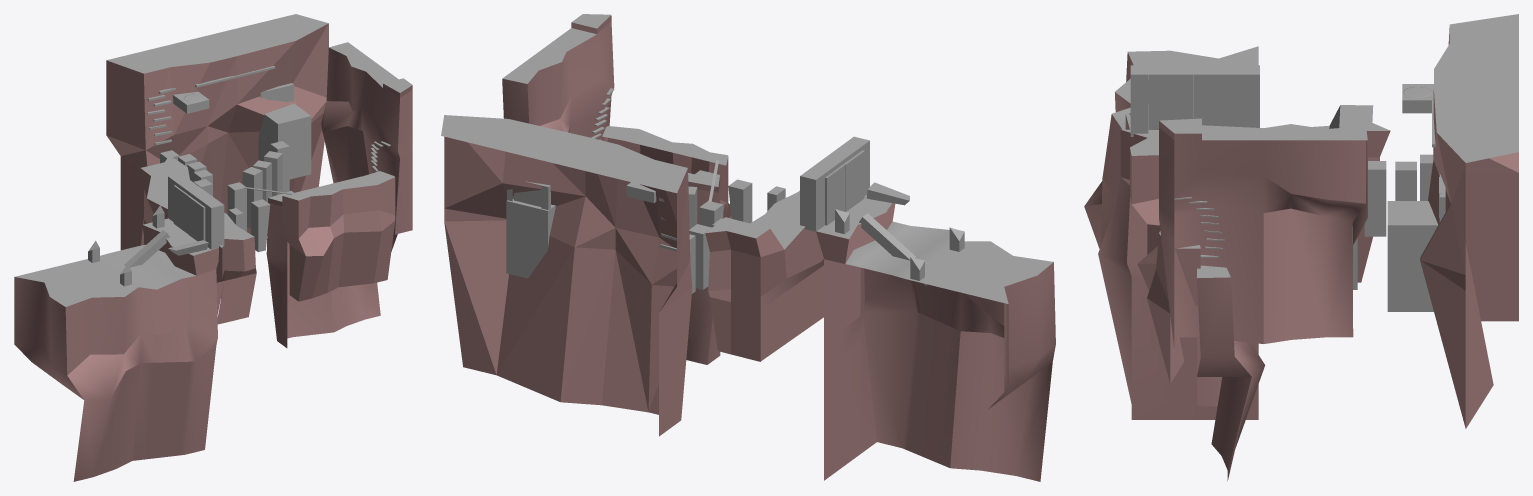
File: zonas 5-6.fbx
3 renders of one model, left to right at view 1: azimuth 30°, elevation 25°; view 2: azimuth 150°, elevation 25°; view 3: azimuth 270°, elevation 25°, orthographic. The views are drawn at different scales.
Parts seen in each view (by area): view 1: base6, base8, base7, base11, base10, base9, polySurface5, cubo_1, polySurface3, escalada_final, polySurface1, polySurface2 (+3 smaller); view 2: base8, base6, base9, base11, polySurface5, base7, cubo_1, base10, polySurface3, polySurface1, polySurface2, columna4 (+1 smaller); view 3: base11, base8, base6, base10, base9, cubo_1, polySurface3, base7, polySurface5, polySurface2, polySurface1, cubo_2.
Boxes of the visible parts, box(x1,y1,x2,y2) form: base6: box(14, 218, 218, 481); base8: box(106, 14, 328, 250); base7: box(282, 171, 395, 301); base11: box(321, 42, 412, 234); base10: box(266, 190, 397, 347); base9: box(140, 155, 256, 324); polySurface5: box(160, 141, 289, 252); cubo_1: box(258, 103, 311, 179); polySurface3: box(168, 173, 224, 249); escalada_final: box(147, 66, 275, 145); polySurface1: box(188, 196, 205, 241); polySurface2: box(173, 185, 189, 234); base8: box(441, 115, 692, 436); base6: box(816, 195, 1055, 481); base9: box(705, 190, 863, 361); base11: box(502, 14, 614, 140); polySurface5: box(688, 179, 785, 293); base7: box(602, 126, 731, 218); cubo_1: box(506, 200, 555, 278); base10: box(686, 170, 720, 364); polySurface3: box(800, 136, 869, 231); polySurface1: box(844, 150, 864, 211); polySurface2: box(825, 164, 845, 225); columna4: box(859, 213, 927, 285); base11: box(1159, 118, 1367, 347); base8: box(1420, 14, 1518, 428); base6: box(1084, 46, 1258, 419); base10: box(1197, 265, 1265, 480); base9: box(1120, 105, 1390, 282); cubo_1: box(1387, 201, 1438, 311); polySurface3: box(1130, 65, 1259, 136); base7: box(1137, 231, 1200, 383); polySurface5: box(1352, 154, 1433, 289); polySurface2: box(1193, 74, 1238, 126); polySurface1: box(1148, 74, 1193, 129); cubo_2: box(1402, 84, 1433, 113).
Bounding box in the file's own units: 113 × 84.11 × 73.94.
